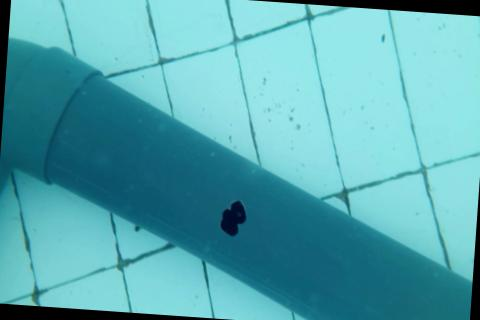kebocoran: (217, 195, 249, 237)
